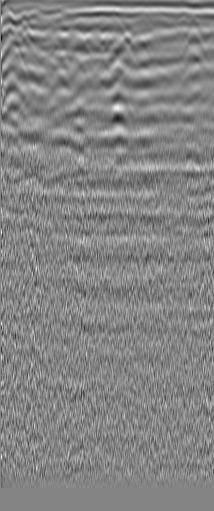오수: (23, 9, 43, 29)
우수: (182, 24, 202, 44)
